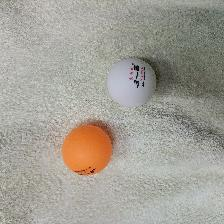WhiteBall: (106, 57, 156, 107)
YellowBall: (60, 124, 112, 176)
